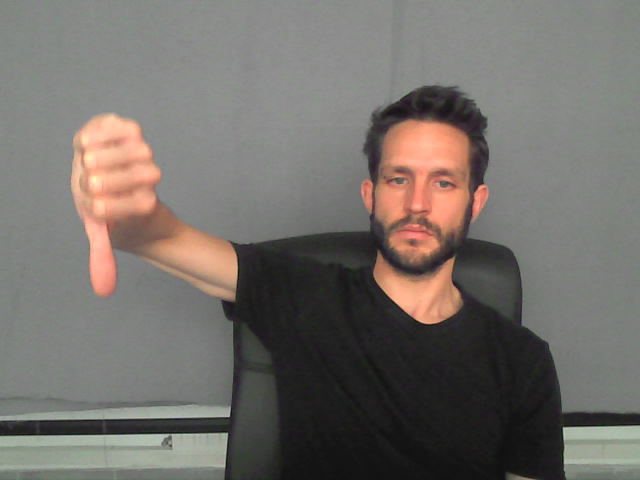thumbsdown: (70, 112, 162, 298)
